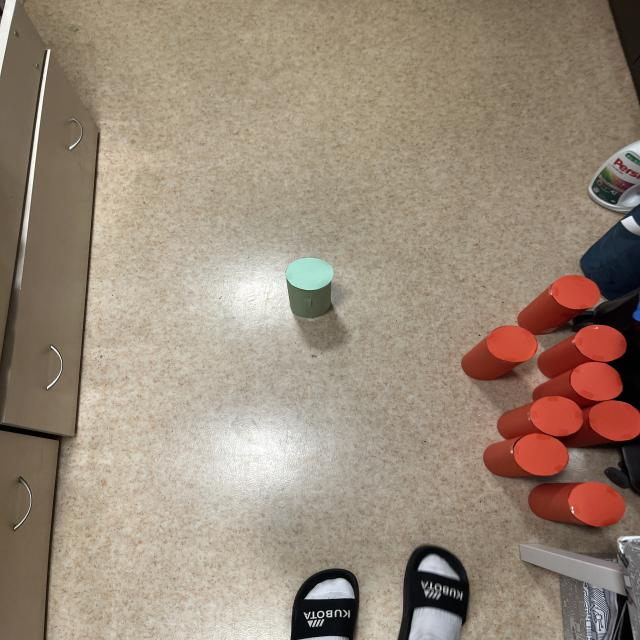meta: (286, 257, 333, 318)
